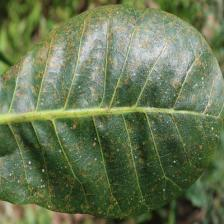red rust: (0, 4, 224, 219)
